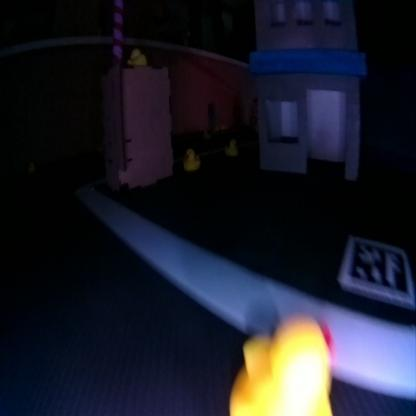Duckie: (229, 312, 331, 414), (184, 147, 199, 170), (131, 48, 146, 61), (226, 138, 237, 154)
QR code: (344, 234, 413, 302)
